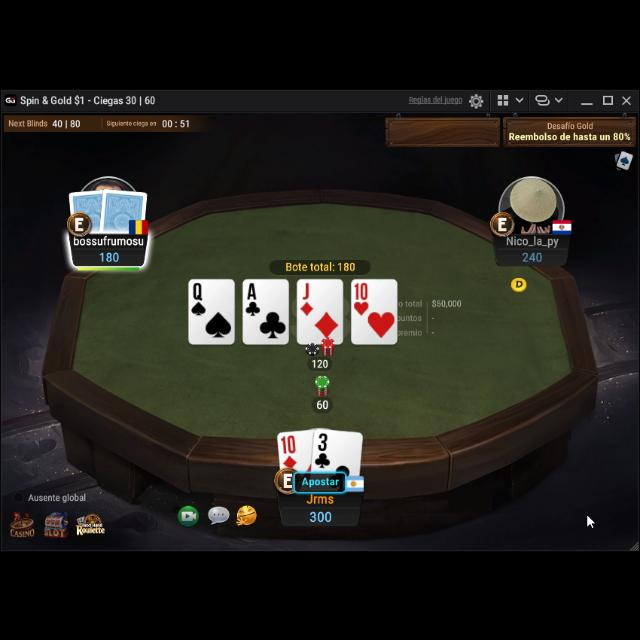3c: (314, 431, 332, 469)
Ac: (245, 280, 261, 318)
Jd: (298, 280, 314, 316)
Qs: (190, 282, 206, 316)
Td: (280, 433, 298, 467)
Th: (353, 280, 371, 316)
bet_text: (312, 357, 328, 369), (316, 398, 330, 410)
card_back: (99, 184, 149, 236), (66, 186, 110, 234)
dealer: (509, 273, 528, 291)
pot_text: (285, 259, 357, 271)
stack_text: (306, 506, 334, 522), (98, 248, 122, 264), (521, 247, 543, 261)
